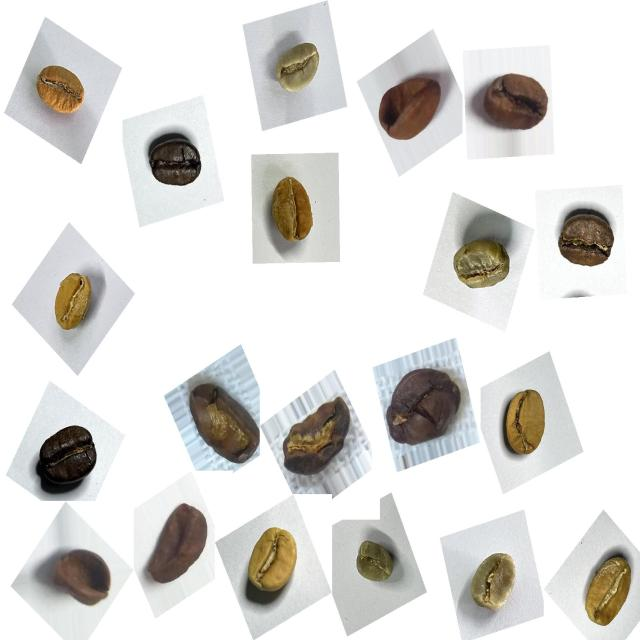bad: (376, 353, 468, 459), (180, 372, 264, 472), (140, 496, 216, 598), (472, 56, 556, 148), (276, 390, 354, 488), (369, 63, 450, 156), (42, 533, 119, 618)
dark: (30, 412, 109, 502), (140, 122, 210, 202)
green: (457, 539, 528, 627), (443, 227, 521, 307), (266, 32, 328, 108), (347, 532, 403, 596)
light: (239, 516, 311, 614), (260, 167, 328, 259), (496, 379, 562, 470), (577, 546, 640, 638), (28, 57, 96, 132), (44, 263, 104, 342)
medium: (547, 196, 624, 282)
